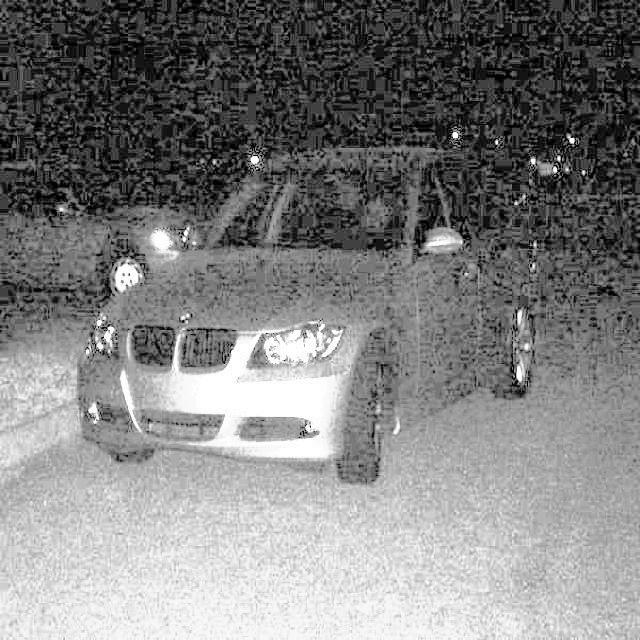Car: (72, 119, 571, 508)
